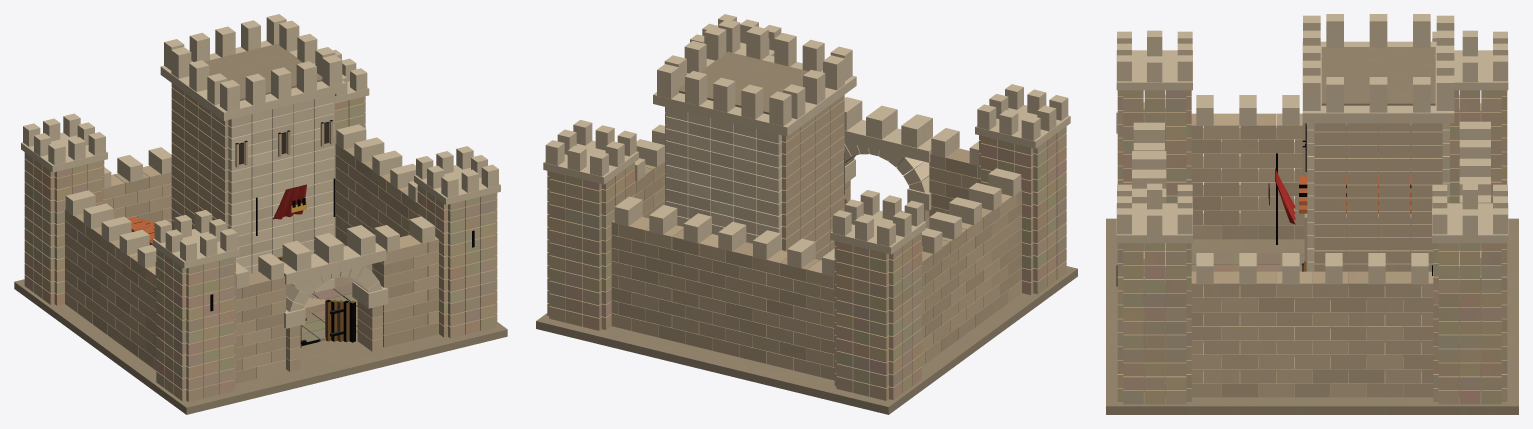
The model's file is SM_FortalezaCastellana_A_LOD0.fbx.
The picture shows the model from 3 angles, left to right: view 1: azimuth 30°, elevation 25°; view 2: azimuth 150°, elevation 25°; view 3: azimuth 270°, elevation 25°; orthographic projection. The views are drawn at different scales.
Parts seen in each view (by area): view 1: SM_FortalezaCastellana_A_LOD0; view 2: SM_FortalezaCastellana_A_LOD0; view 3: SM_FortalezaCastellana_A_LOD0.
Boxes of the visible parts, <box> form: SM_FortalezaCastellana_A_LOD0: <box>14,14,507,414</box>; SM_FortalezaCastellana_A_LOD0: <box>536,14,1077,414</box>; SM_FortalezaCastellana_A_LOD0: <box>1106,14,1518,414</box>.
Size of the model in its own units: 1.13 by 0.795 by 1.05.
Materials: 1 (1 with a texture image).
